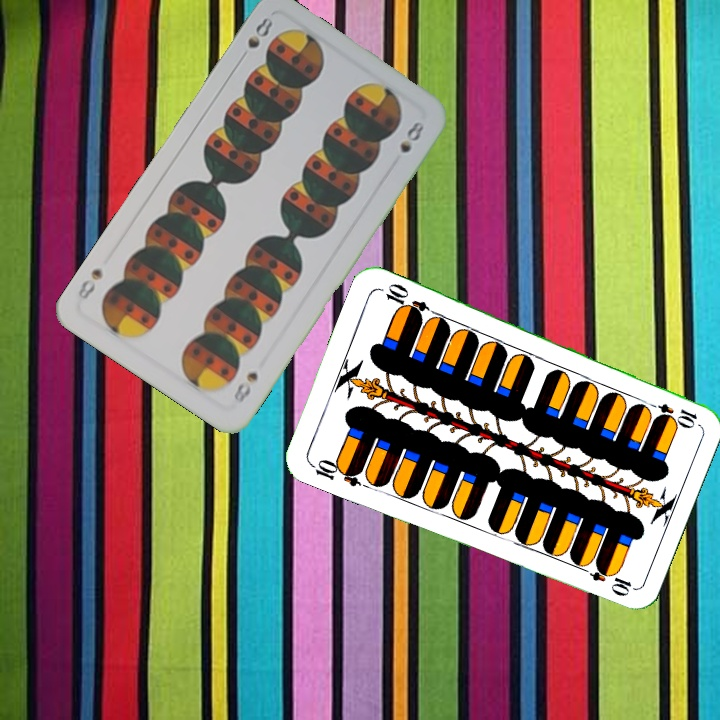E10: (306, 455, 365, 490), (642, 398, 700, 429)
S8: (243, 13, 276, 52), (229, 368, 261, 407)
